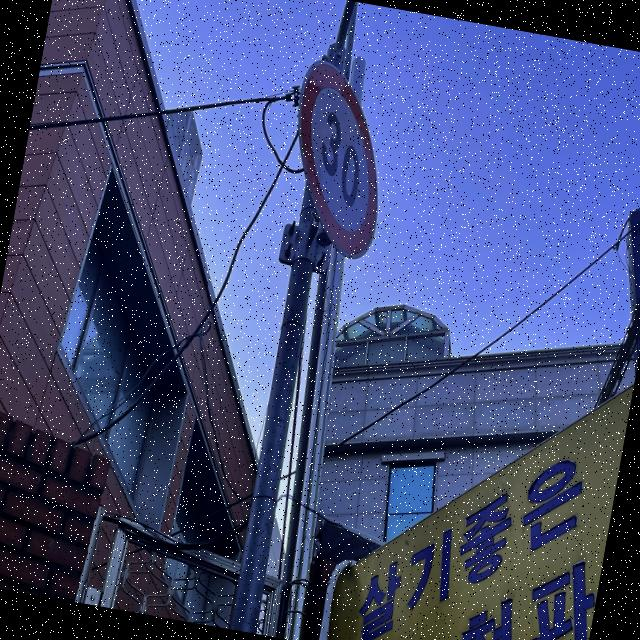Ograniczenie predkosci do 30: (274, 54, 402, 266)
